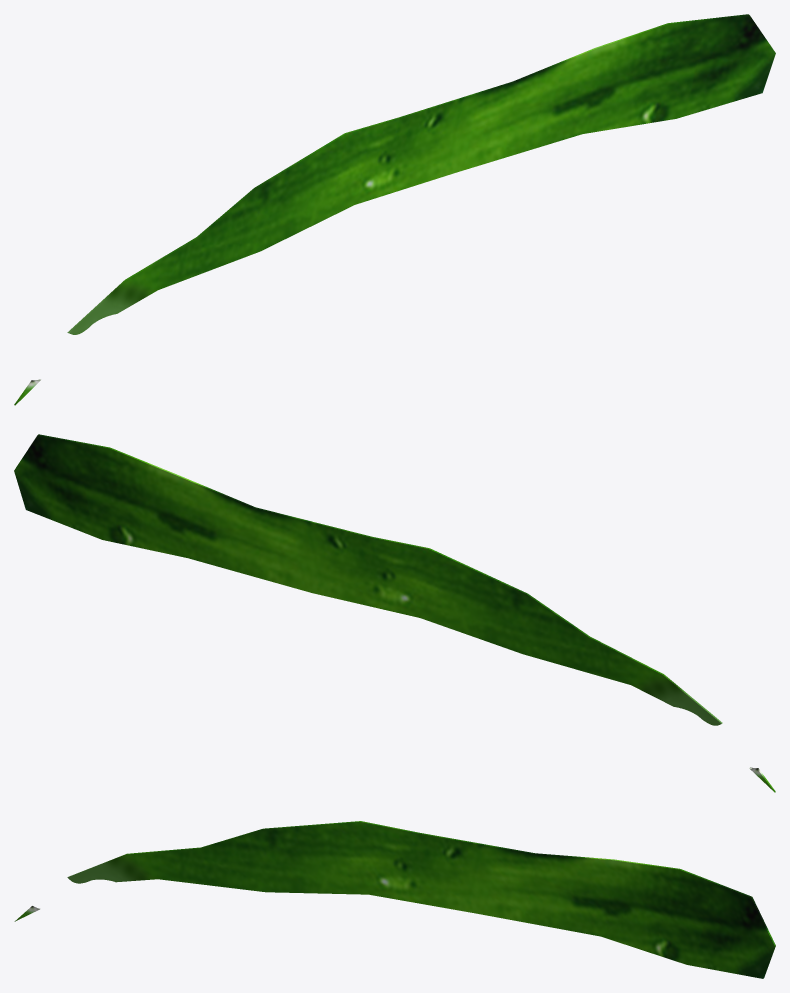
Rendered from bamboo3.fbx.
The picture shows the model from 3 angles, top to bottom: view 1: azimuth 30°, elevation 25°; view 2: azimuth 150°, elevation 25°; view 3: azimuth 330°, elevation 25°; orthographic projection. The views are drawn at different scales.
Visible parts, largest first — view 1: polySurface4; view 2: polySurface4; view 3: polySurface4.
Part boxes in pixels (bbox=[...]): polySurface4: bbox=[14, 14, 775, 405]; polySurface4: bbox=[14, 434, 775, 792]; polySurface4: bbox=[14, 821, 775, 978].
Size of the model in its own units: 18.2 by 4.61 by 0.8702.
1 material, 1 textured.
